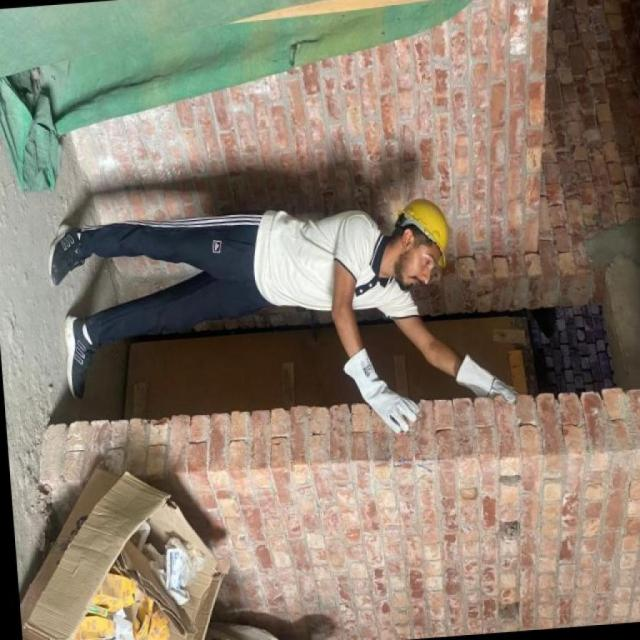Gloves-Detection: (334, 350, 421, 430), (455, 356, 519, 401)
